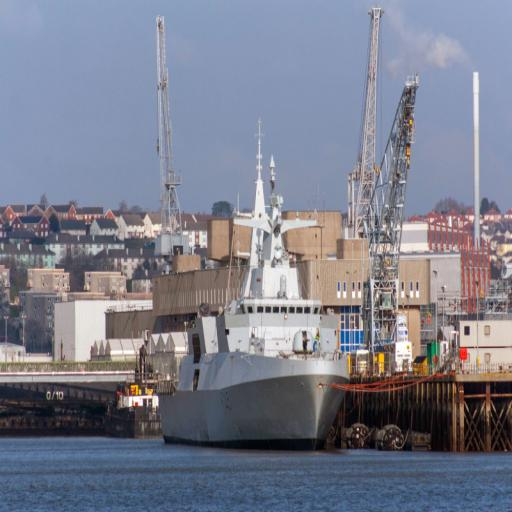Fragata: (154, 105, 356, 455)
